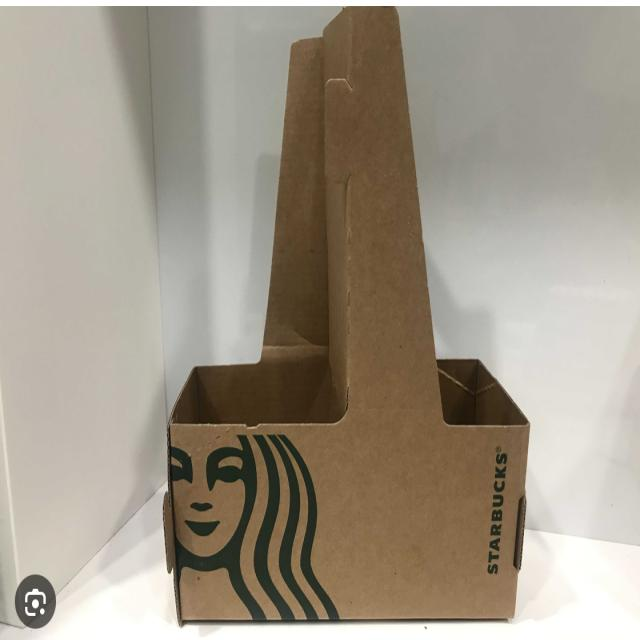biodegradable: (136, 6, 571, 637)
